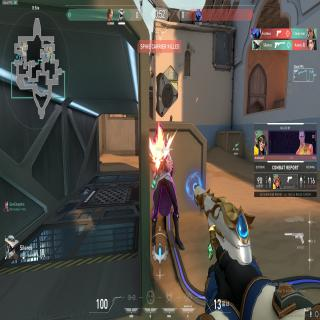ENEMY-BODY: (155, 148, 179, 232)
ENEMY-HEAD: (155, 122, 164, 145)
